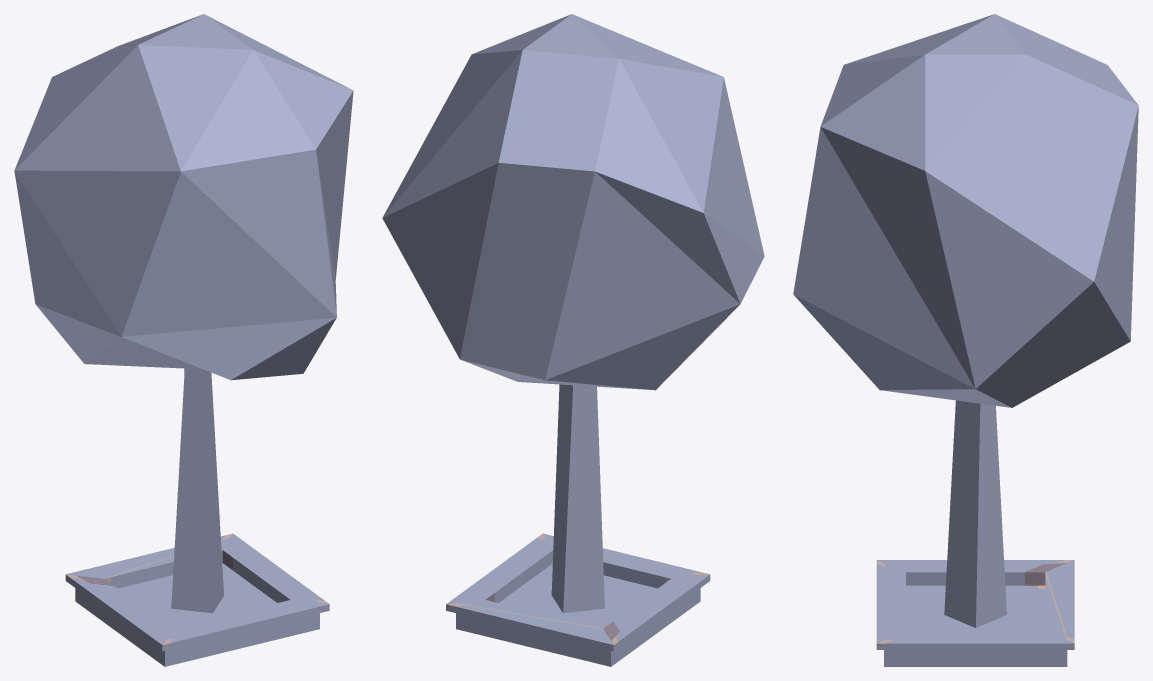
The model's file is tree_01.FBX.
3 renders of one model, left to right at view 1: azimuth 30°, elevation 25°; view 2: azimuth 150°, elevation 25°; view 3: azimuth 270°, elevation 25°, orthographic. The views are drawn at different scales.
Parts seen in each view (by area): view 1: tree_01; view 2: tree_01; view 3: tree_01.
Boxes of the visible parts, bbox=[...] form: tree_01: bbox=[14, 14, 353, 666]; tree_01: bbox=[382, 14, 764, 666]; tree_01: bbox=[793, 14, 1138, 666].
Size of the model in its own units: 194 by 355 by 188.
